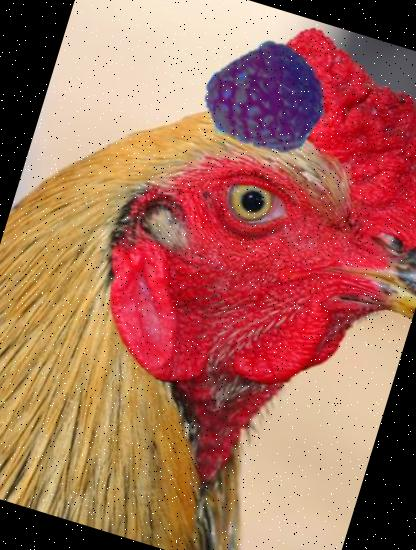Raspberry: (195, 26, 336, 167)
